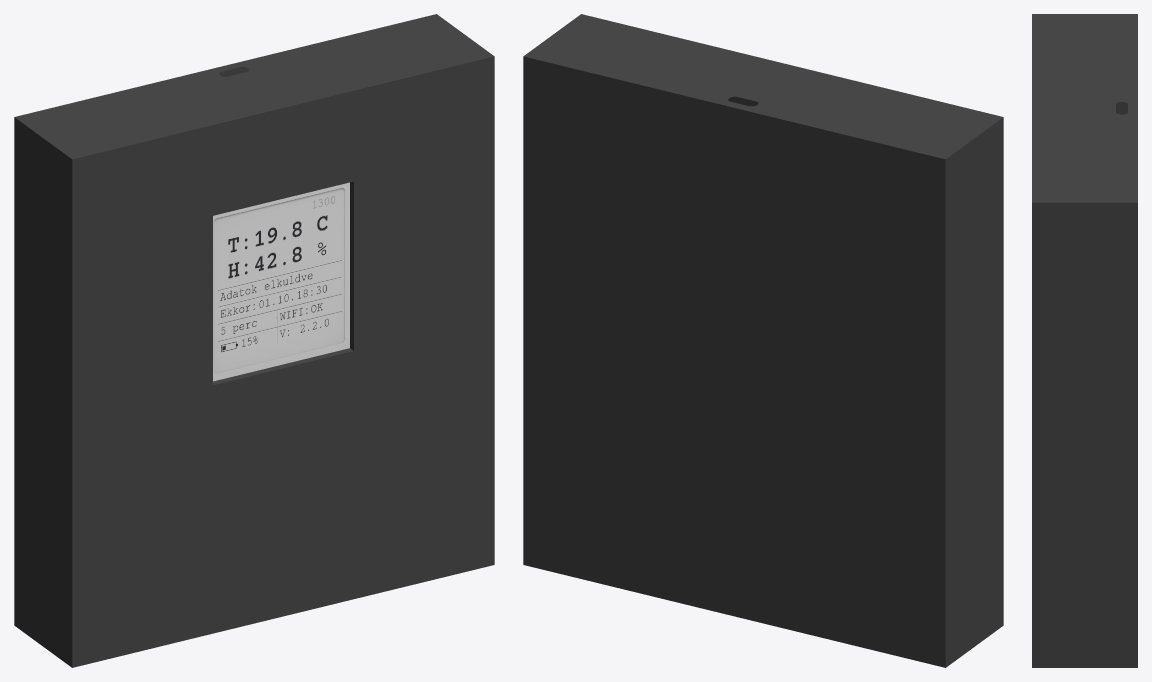
The model's file is feher_feher.glb.
3 views of the same model, side by side, from view 1: azimuth 30°, elevation 25°; view 2: azimuth 150°, elevation 25°; view 3: azimuth 270°, elevation 25° (orthographic). The views are drawn at different scales.
Parts seen in each view (by area): view 1: Cube; view 2: Cube; view 3: Cube.
Boxes of the visible parts, bbox=[...] form: Cube: bbox=[14, 14, 494, 667]; Cube: bbox=[523, 14, 1003, 667]; Cube: bbox=[1032, 14, 1137, 667].
Bounding box in the file's own units: 0.2909 × 0.3347 × 0.0691.
Materials: 2 (1 with a texture image).
